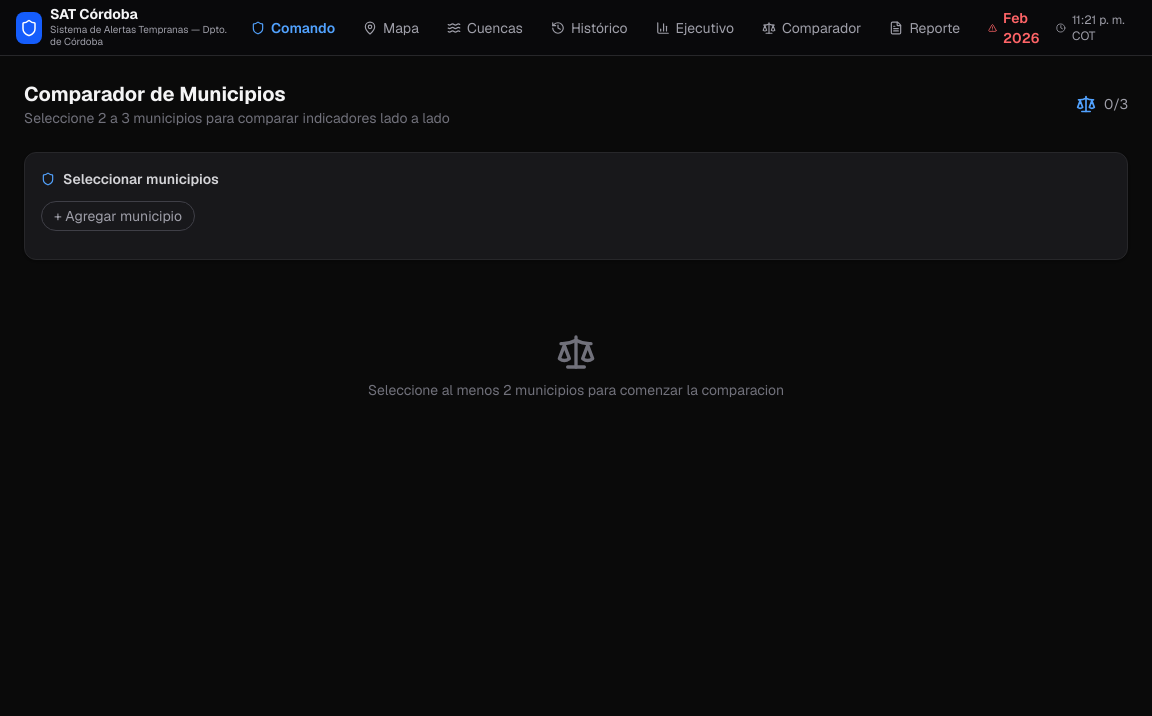
ComparadorPage › shows all indicator category headings when comparing
What coordinates should you click on to do the following:
click the button with test id "add-municipality-btn"
I would click on:
 (118, 216)
Its box is [41,201,195,231].
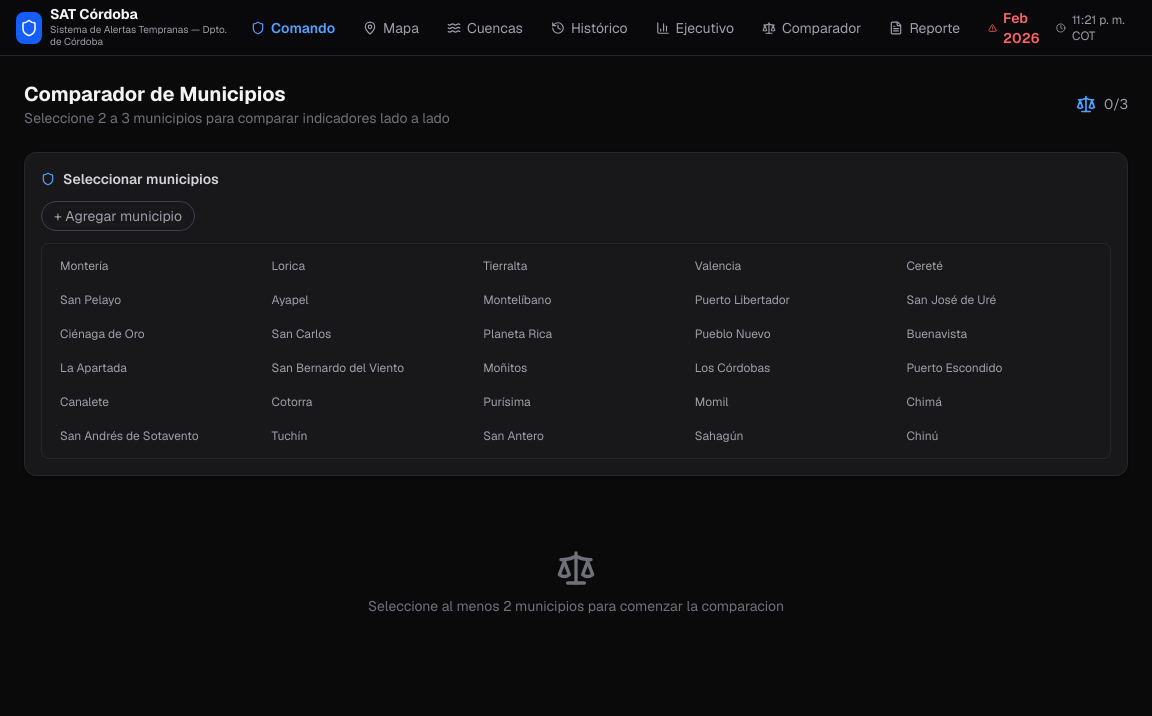
What coordinates should you click on to do the following:
click the button "Montería"
I would click on:
 (153, 266)
Its box is [50,252,256,280].
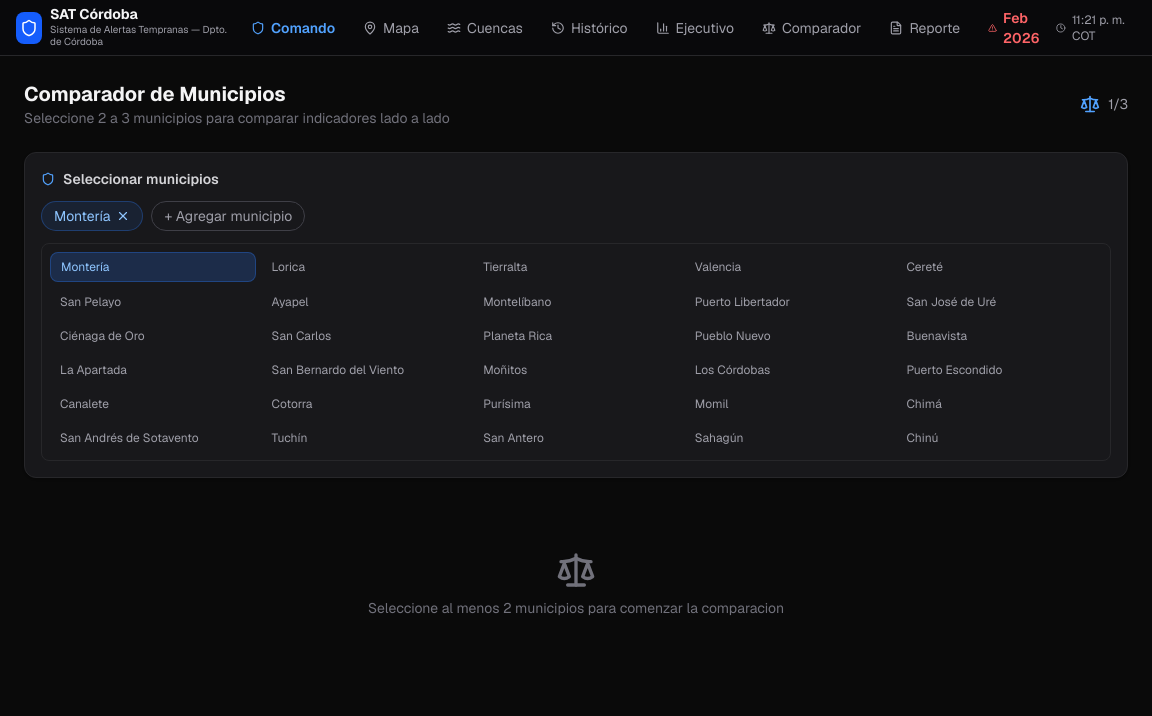
What coordinates should you click on to do the following:
click the button "Lorica"
I would click on:
 (364, 267)
Its box is [262,252,467,282].
(page scrolled)
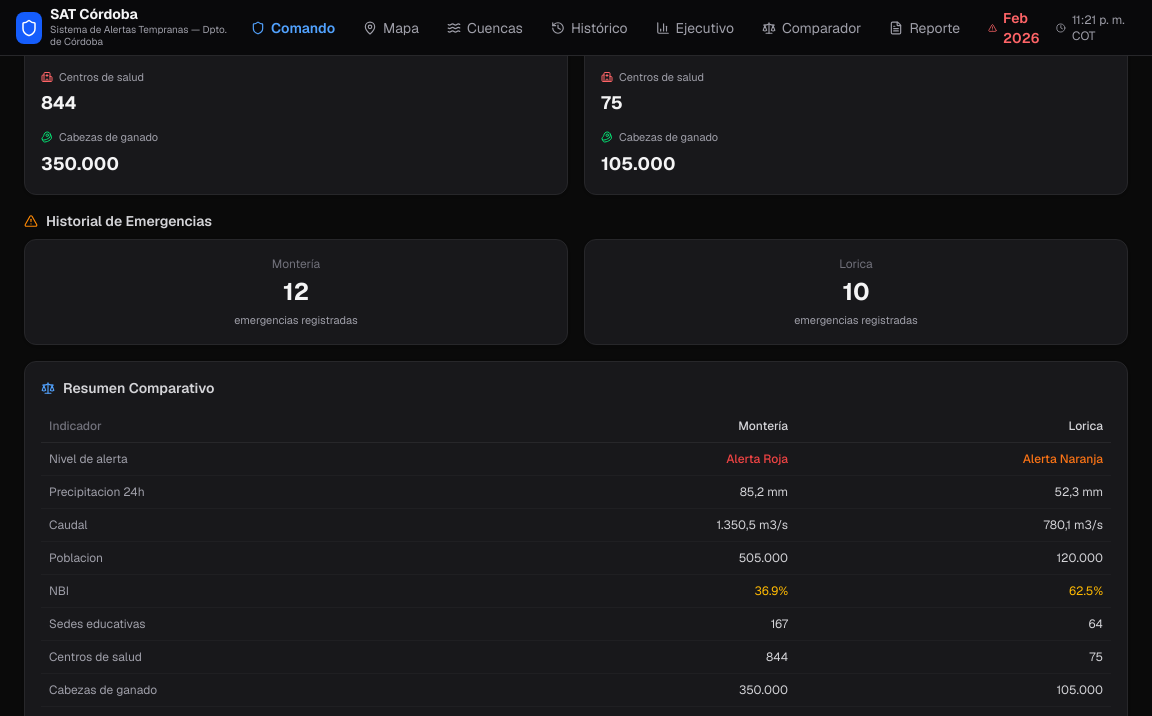
Now the heading "Historial de Emergencias" is shown, box [24,212,212,230]
Now the text "Resumen Comparativo" is shown, box [41,378,214,398]
